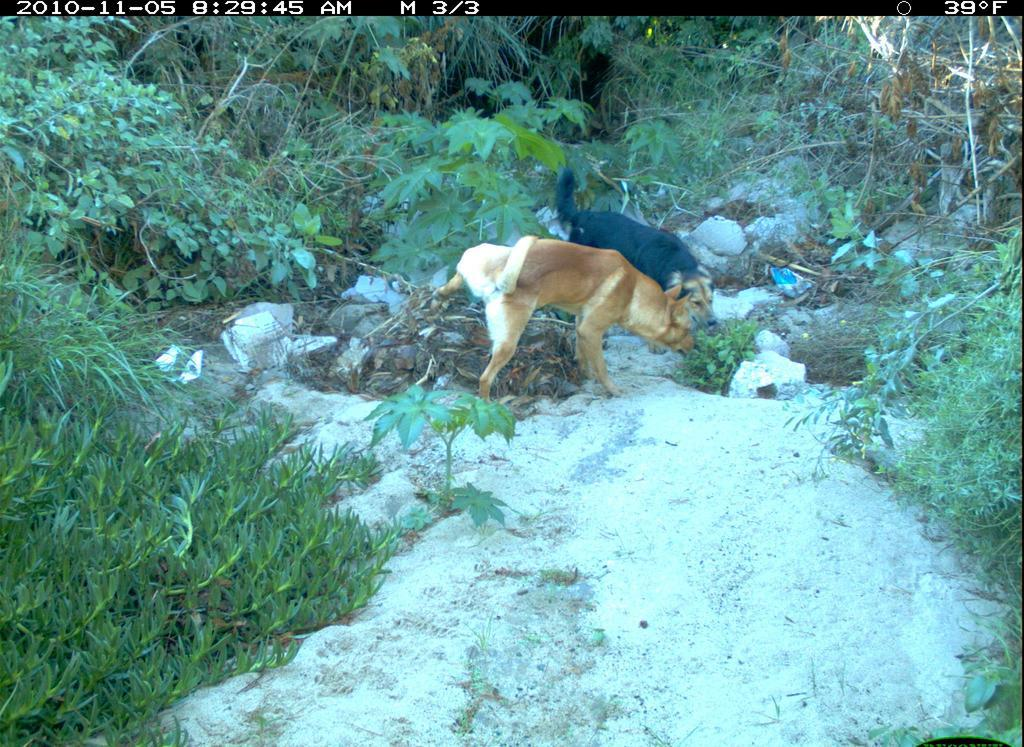dog: (429, 228, 706, 405), (552, 161, 725, 331)
